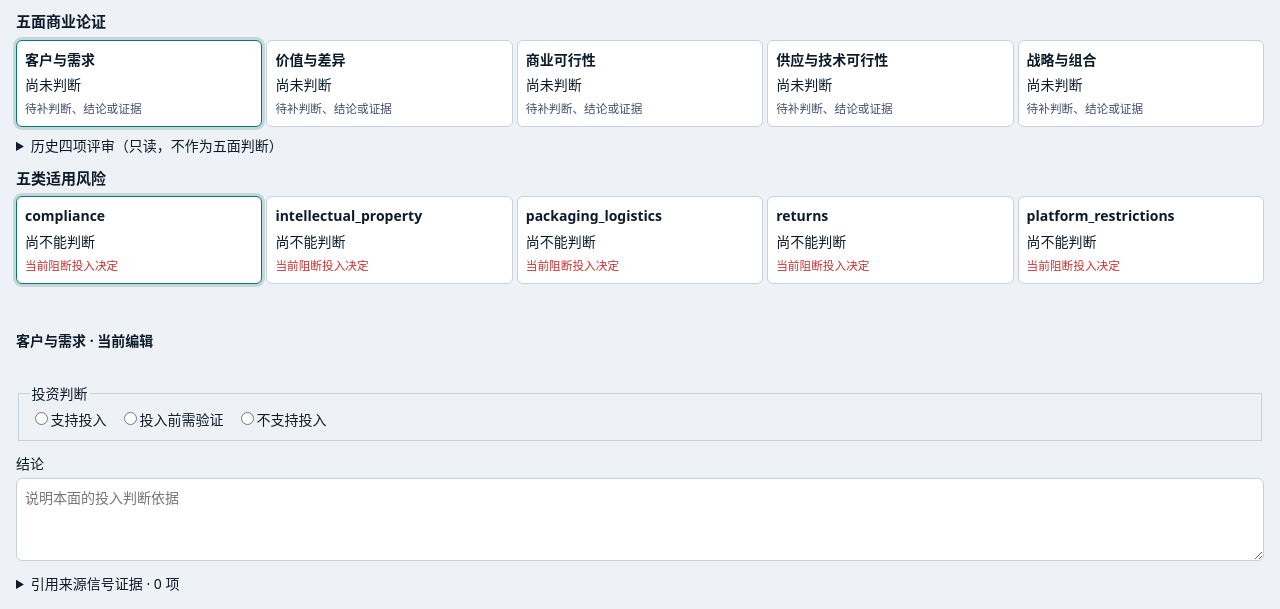
ProductInitiativeReviewPanel › 把五面和风险摘要接到同一个当前编辑区
Click the button "compliance 尚不能判断 当前阻断投入决定".
click(139, 240)  # box top-left (16, 196), bottom-right (262, 284)
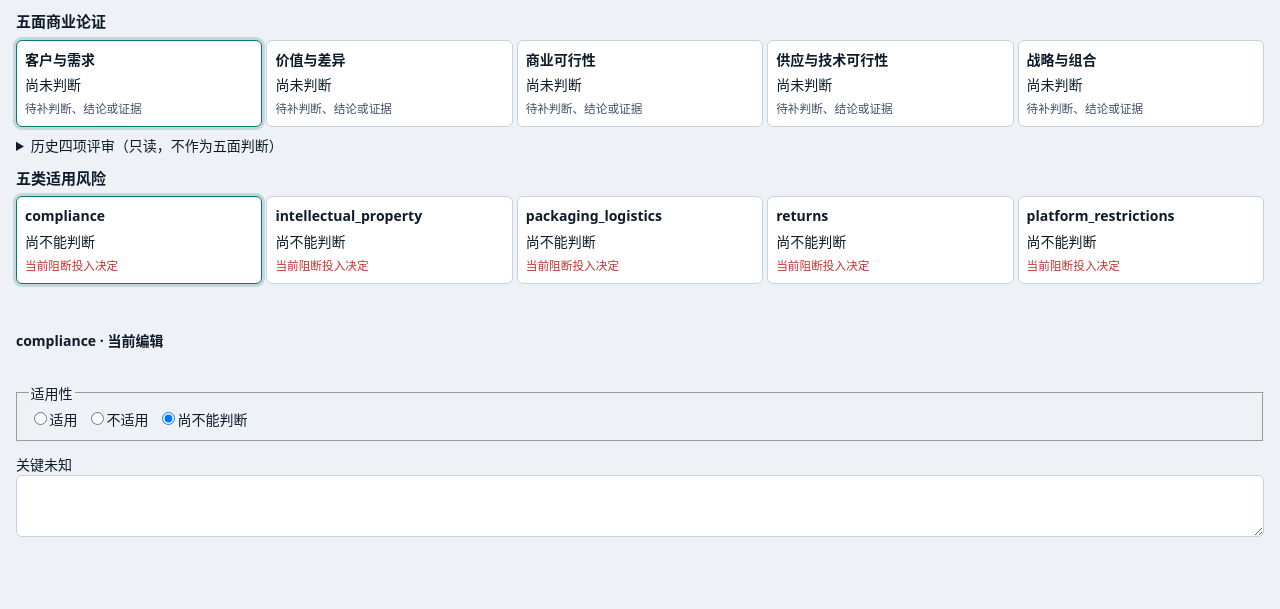
Expected: the element with class "risk-editor" is shown, top-left (16, 312), bottom-right (1264, 542)
